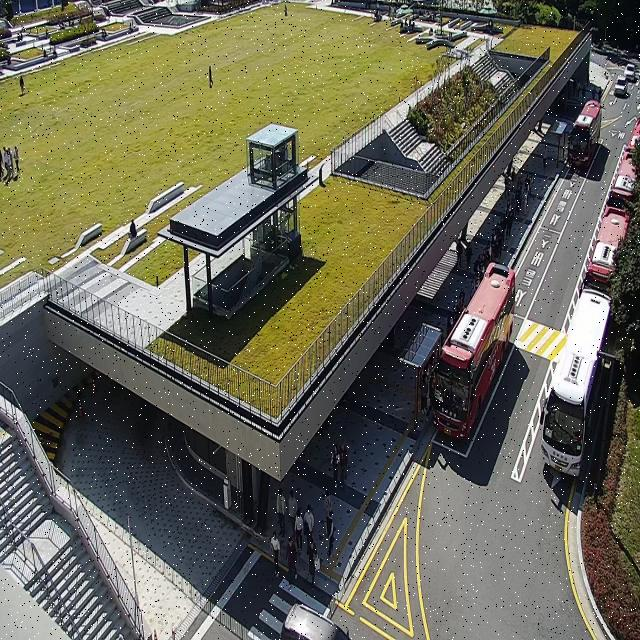queue: (416, 173, 534, 431)
